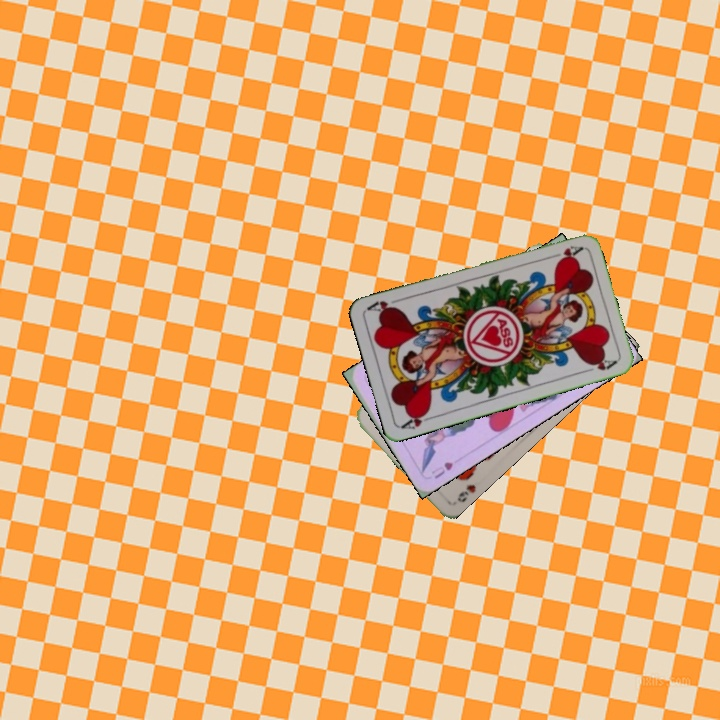H9: (453, 480, 478, 505)
HA: (398, 407, 438, 432), (545, 242, 585, 263)
HU: (427, 457, 455, 481)
